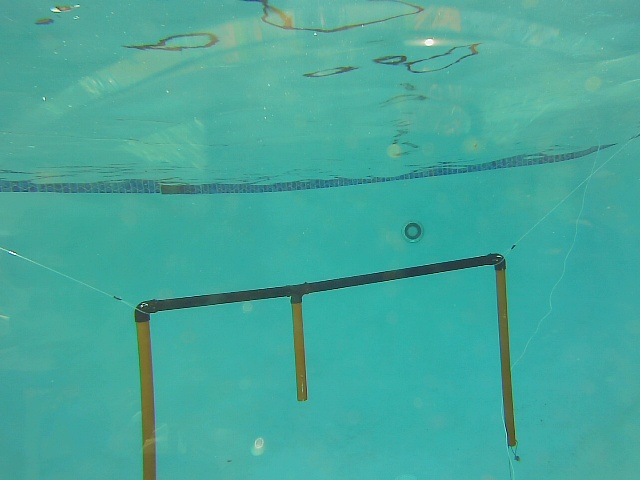Gate: (128, 312, 164, 480), (492, 265, 520, 448), (288, 295, 310, 406)
